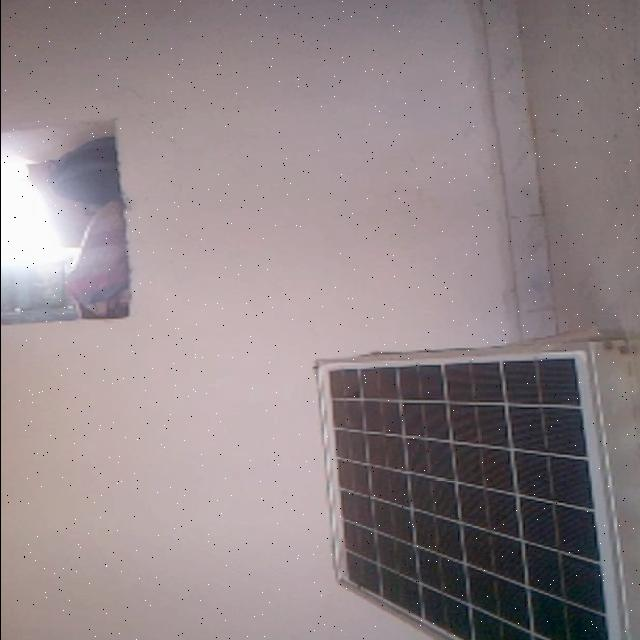Normal Solar Panel: (328, 361, 606, 640)
